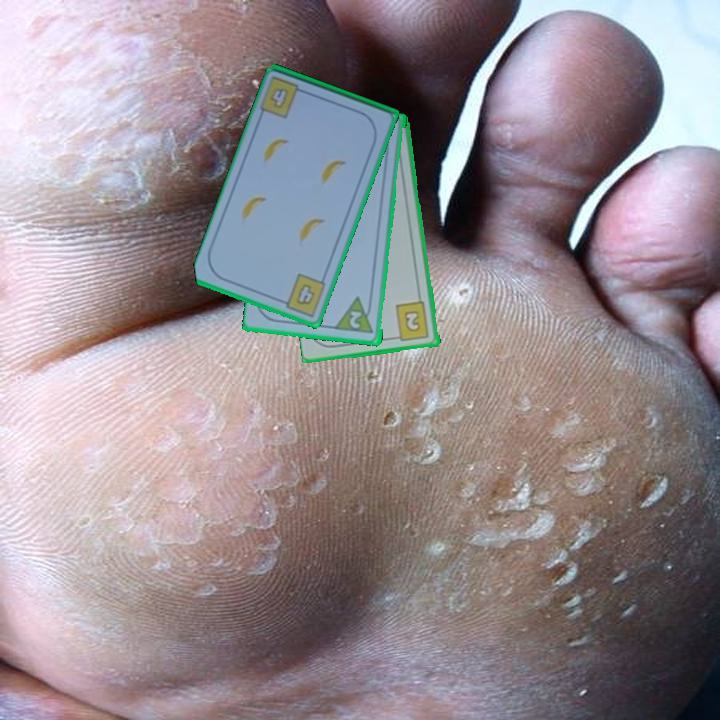2b: (390, 299, 432, 344)
2p: (346, 307, 365, 332)
4b: (277, 270, 329, 320), (267, 85, 292, 112)
